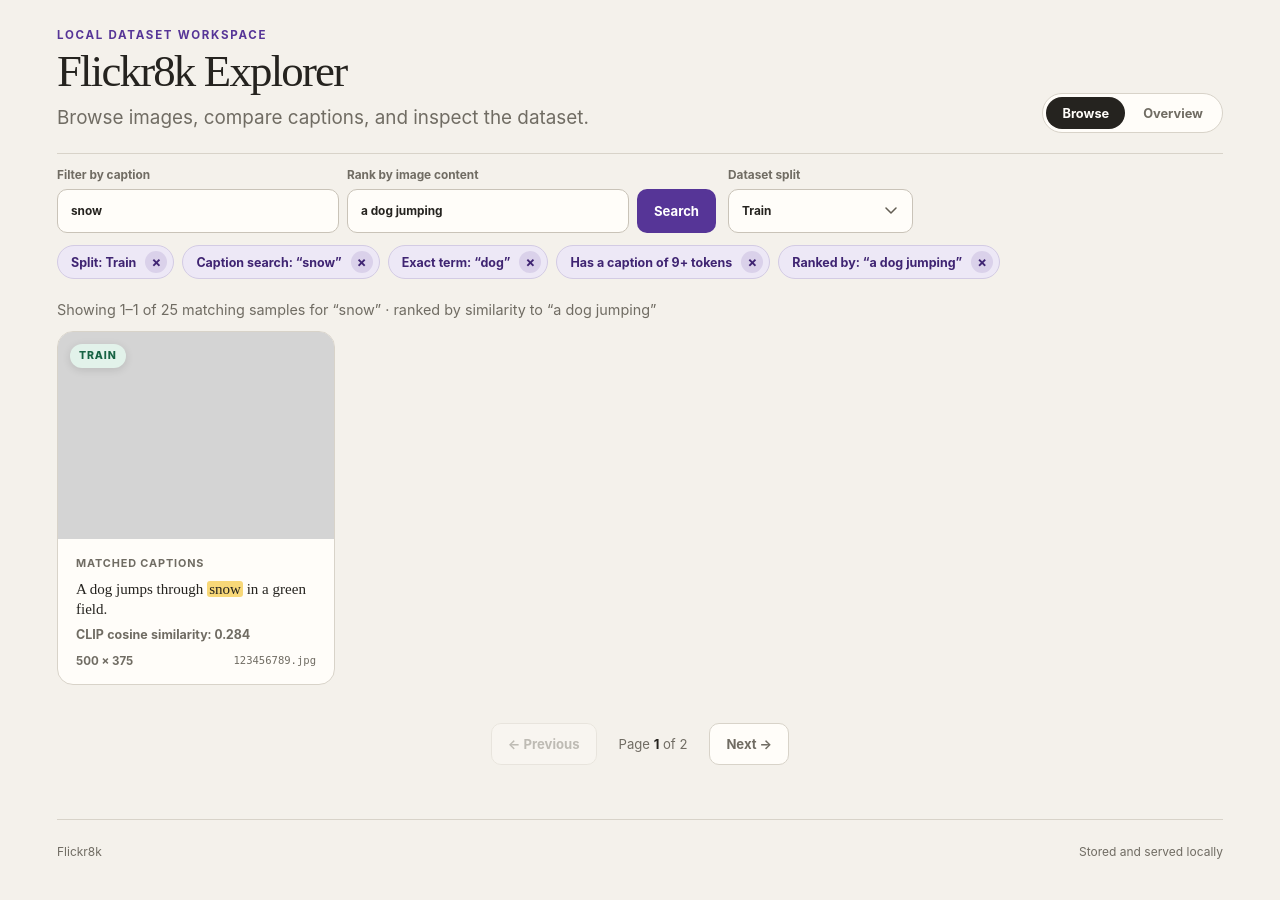
Test: composes caption and numeric filters with ranking through pagination
Expected: the text "snow" is shown, [207,581,243,597]
Expected: the text "CLIP cosine similarity: 0.284" is shown, [76,627,250,642]
Click the button "Next →". click: (749,744)
box: [709,723,789,765]
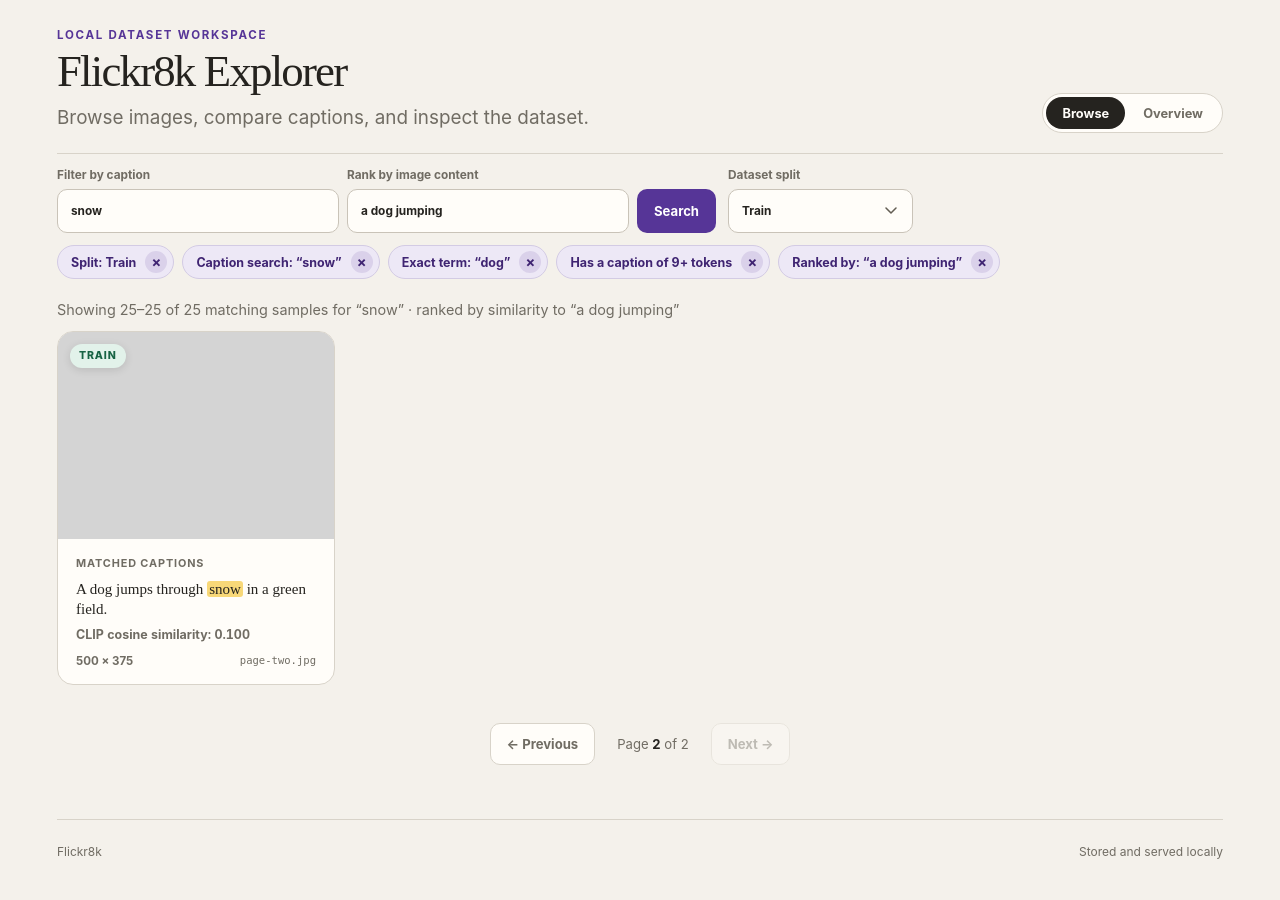
Now the text "CLIP cosine similarity: 0.100" is shown, box [76,627,250,642]
